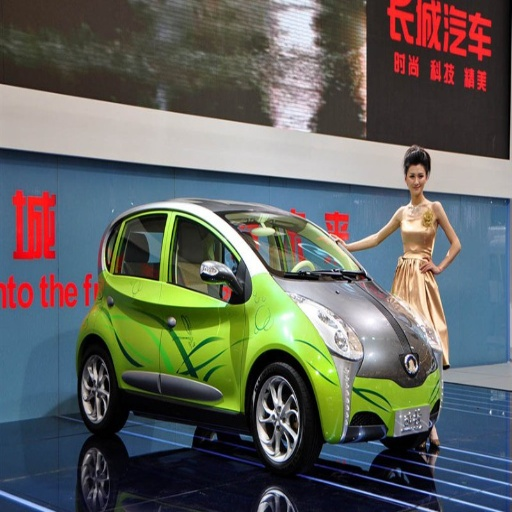front_bumper: (313, 353, 437, 439)
front_right_door: (160, 210, 246, 408)
front_right_light: (310, 307, 363, 358)
